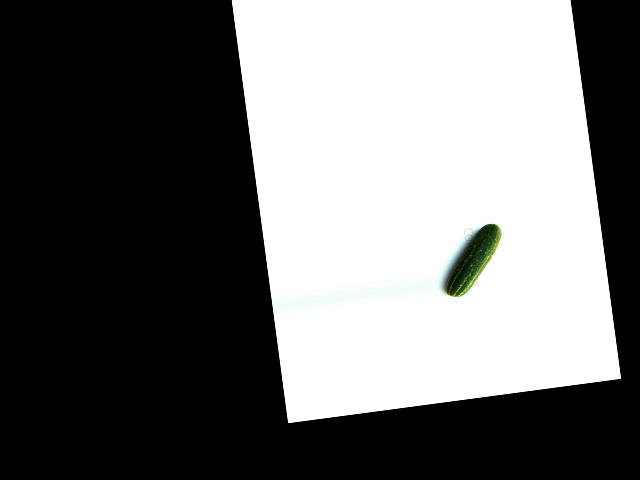cucumber: (437, 223, 509, 299)
